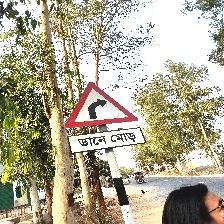Right-turn: (64, 82, 146, 154)
